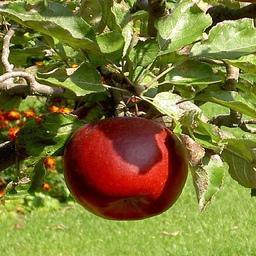apple: (62, 117, 189, 220)
